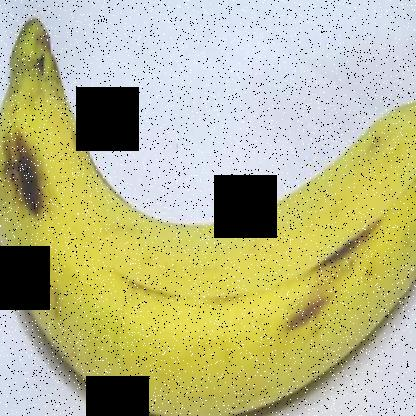freshripe: (1, 8, 416, 415)
